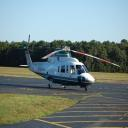helicopter: (18, 34, 122, 93)
